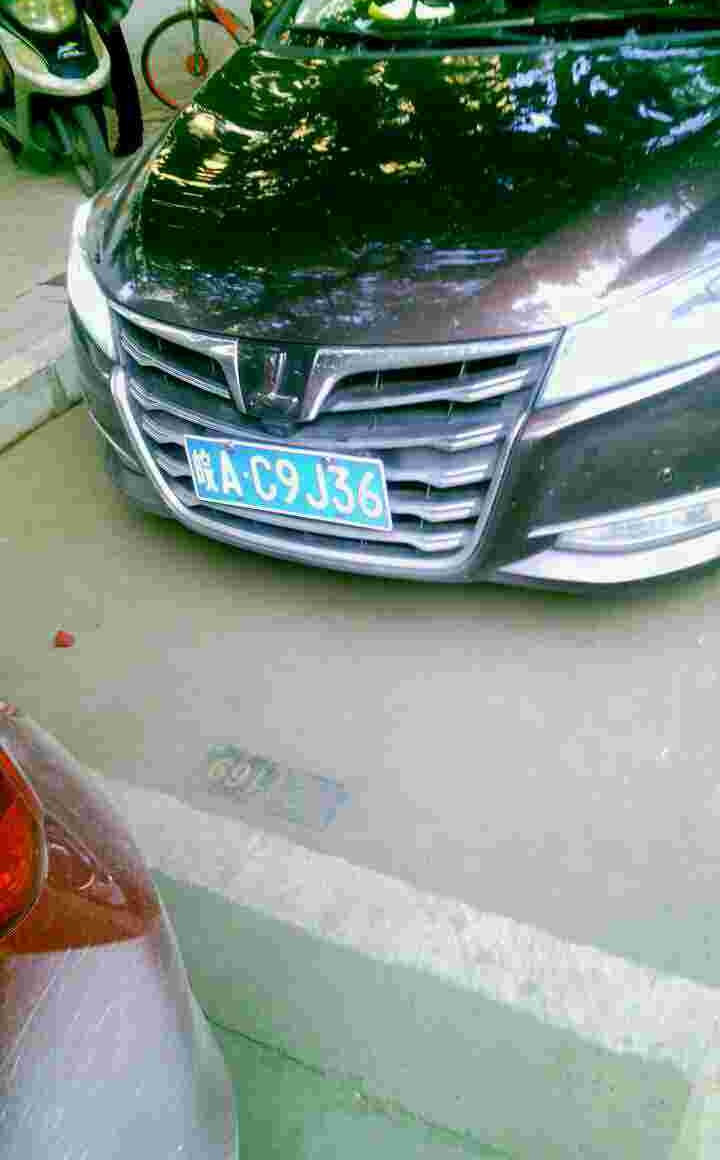plate: (179, 426, 398, 536)
